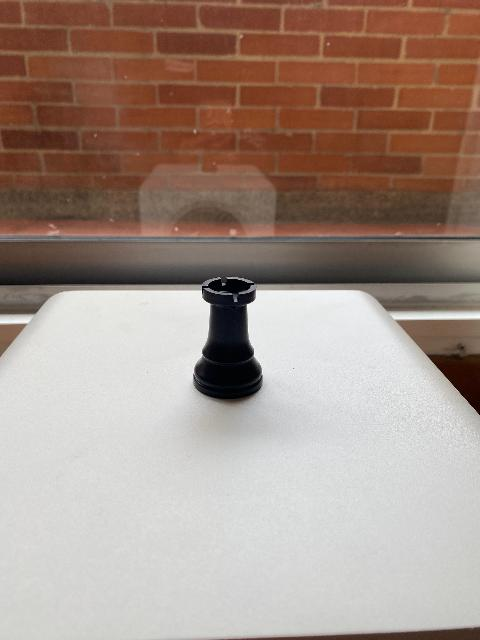black-rook: (192, 276, 264, 400)
